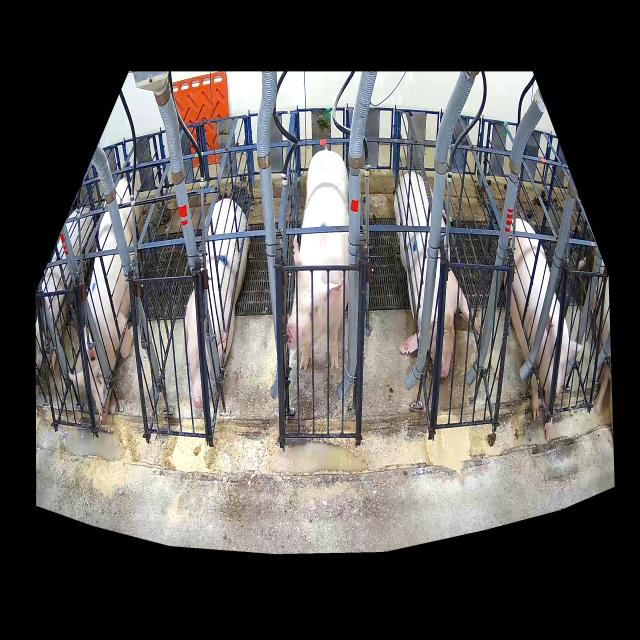pig: (76, 179, 144, 417), (394, 172, 469, 378), (510, 218, 576, 443), (184, 199, 248, 409), (287, 151, 348, 371)
